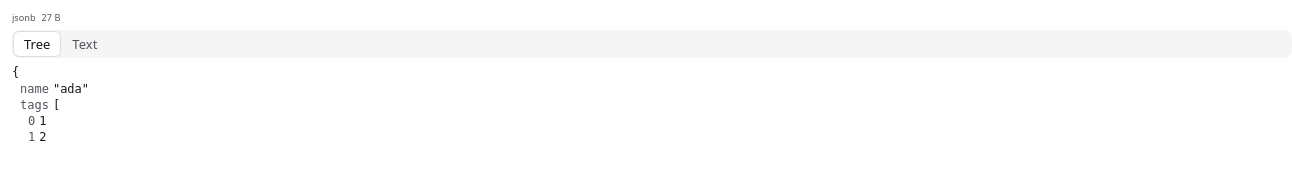
Scenario: shows a JSON document as a tree and switches to its exact text
The image size is (1292, 172).
Expected: the list named "JSON tree" is shown, [12, 64, 89, 144]
Expected: the text "\"ada\"" is shown, [53, 81, 89, 97]
Click the radio button labelled "Text" at {"x": 85, "y": 44}, box [62, 32, 107, 56]
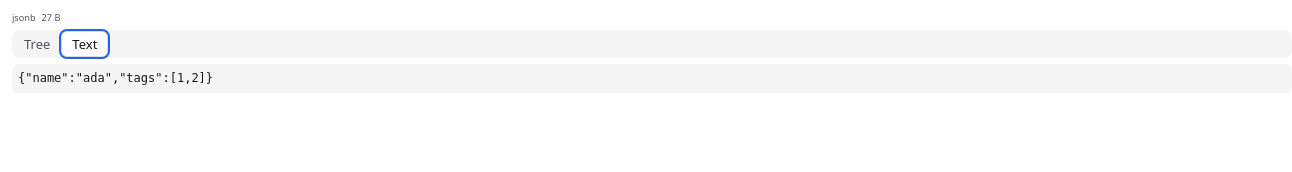
Result: the text "{\"name\":\"ada\",\"tags\":[1,2]}" is shown at [12, 64, 1291, 93]
